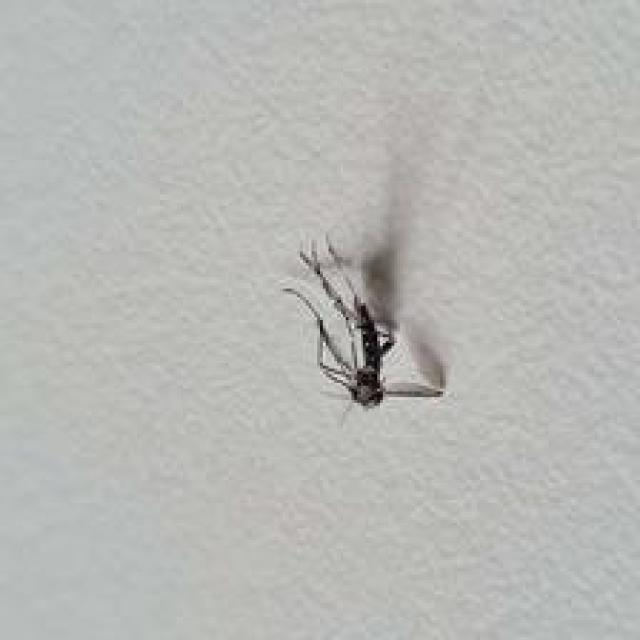Aedes albopictus: (282, 232, 447, 414)
